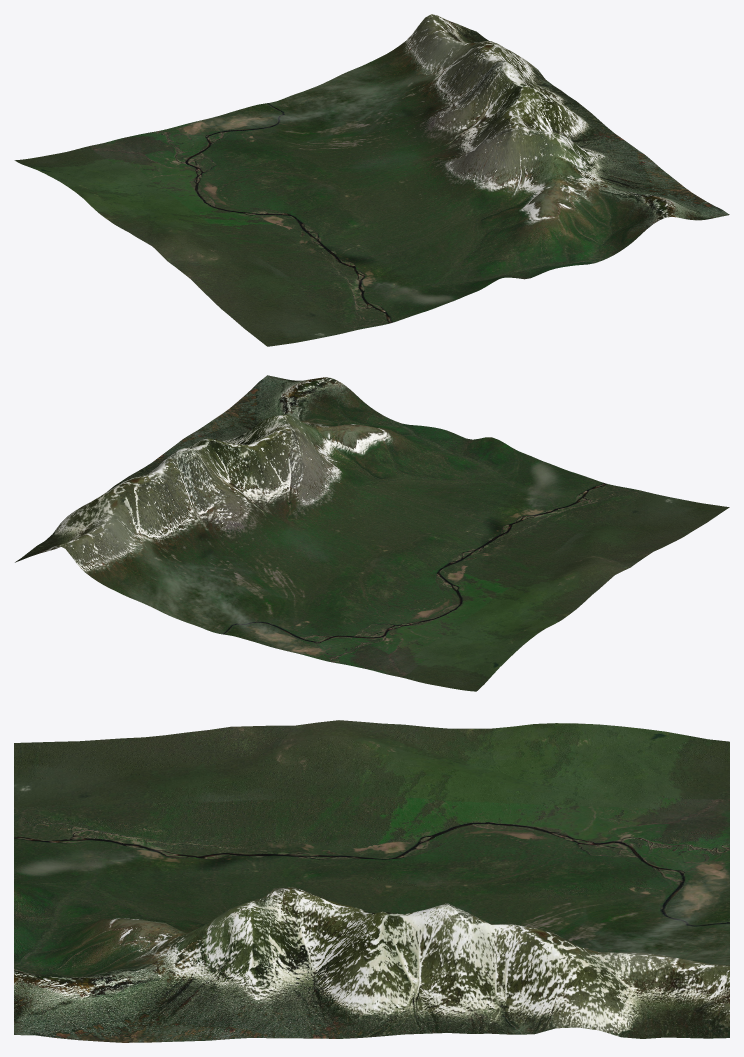
3 views of the same model, one above another, from view 1: azimuth 30°, elevation 25°; view 2: azimuth 150°, elevation 25°; view 3: azimuth 270°, elevation 25° (orthographic). The views are drawn at different scales.
Parts seen in each view (by area): view 1: TerrainNode_0; view 2: TerrainNode_0; view 3: TerrainNode_0.
Boxes of the visible parts, x1,y1,x2,y2 form: TerrainNode_0: [14, 14, 729, 346]; TerrainNode_0: [15, 375, 729, 691]; TerrainNode_0: [14, 720, 729, 1042].
Size of the model in its own units: 33396 by 5693 by 31689.
Materials: 1 (1 with a texture image).
